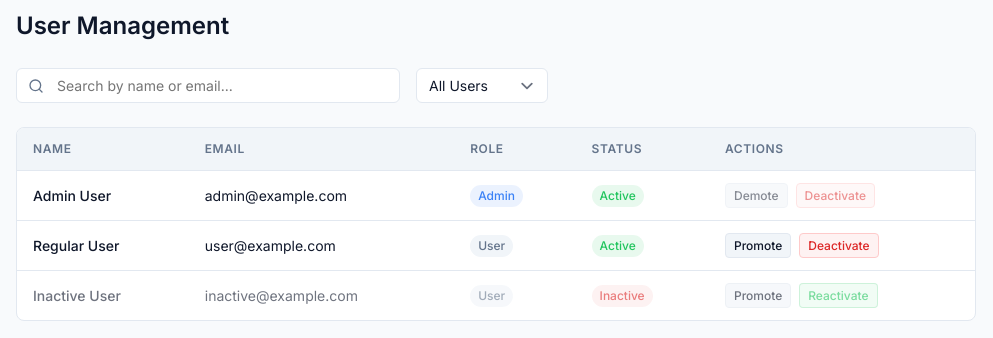
Test: UserManagement › filters users by search query
Expected: the text "Admin User" is shown, [17,170,189,220]
Type "admin" into the field with placeholder "Search by name or email..." at (208, 86), box [16,68,400,103]
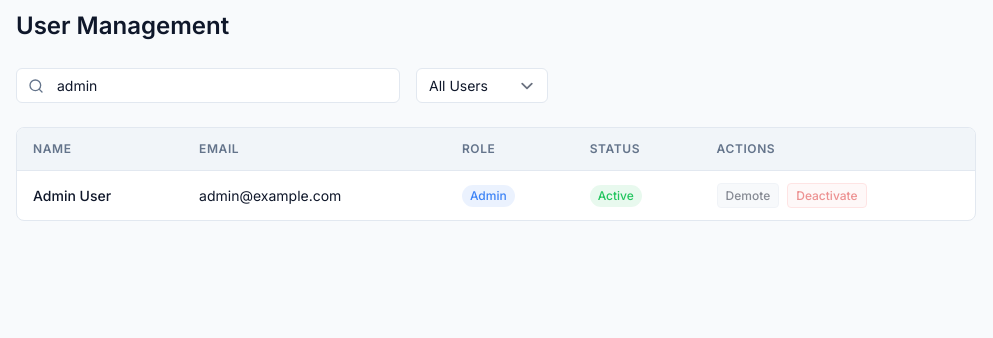
Expected: the text "Admin User" is shown, [17,170,183,220]
Expected: the text "Regular User" is gone
